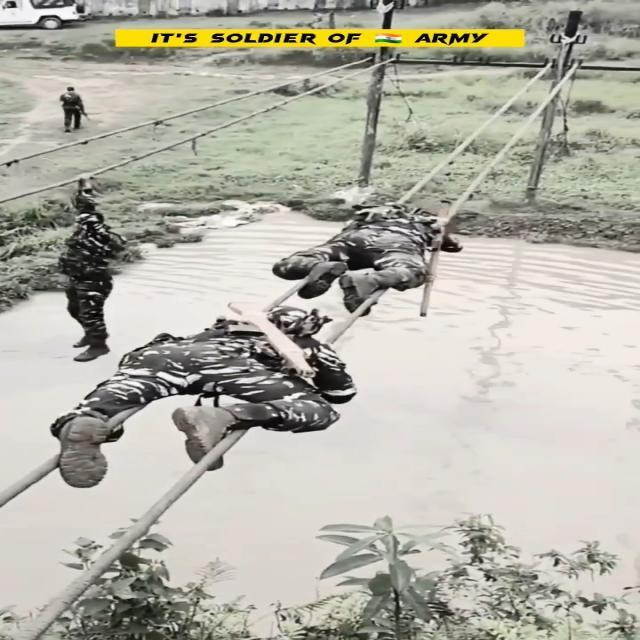MIL_Pax: (51, 306, 356, 487), (273, 202, 438, 311), (60, 180, 124, 361), (60, 86, 84, 132)
